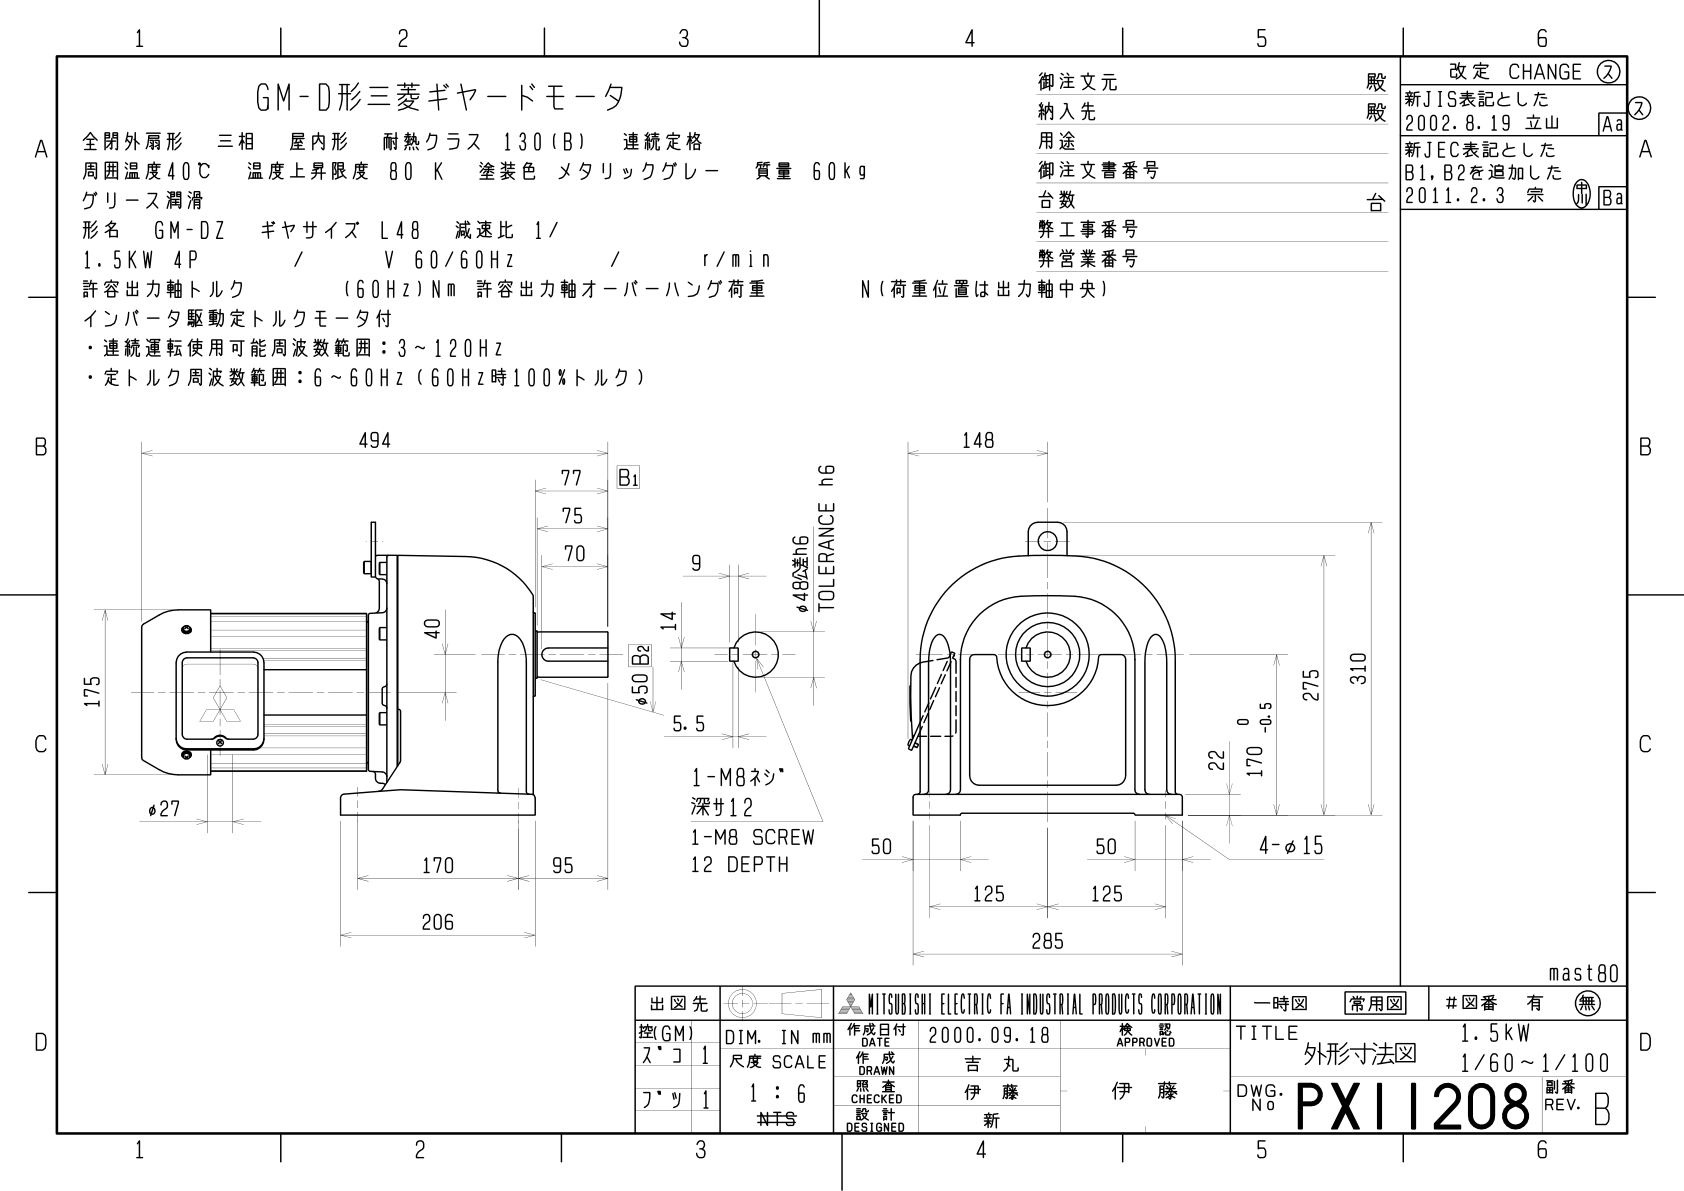GM_D_インバータ屋内_三相_脚: (77, 409, 1389, 969)
